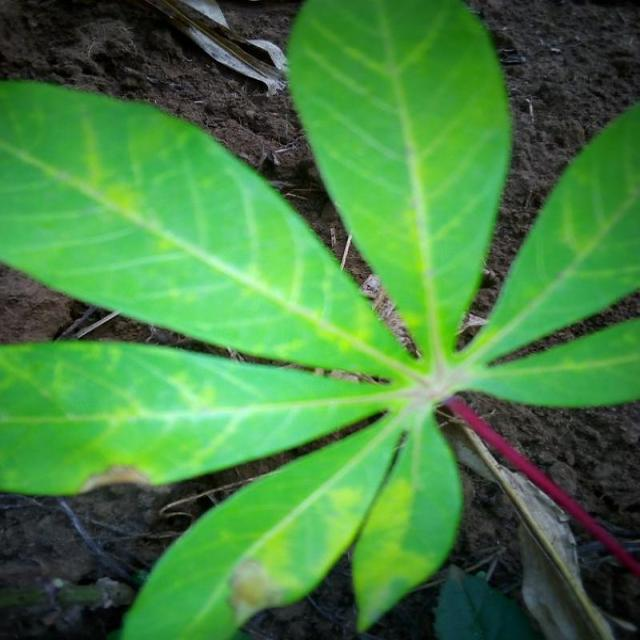cassava leaf: (0, 0, 638, 638), (0, 76, 419, 382), (284, 0, 513, 359), (456, 99, 639, 409)
